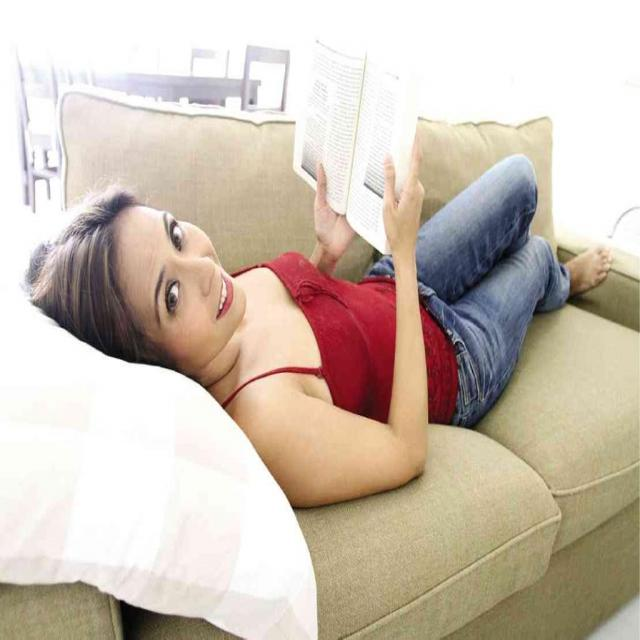nomask: (116, 202, 248, 360)
